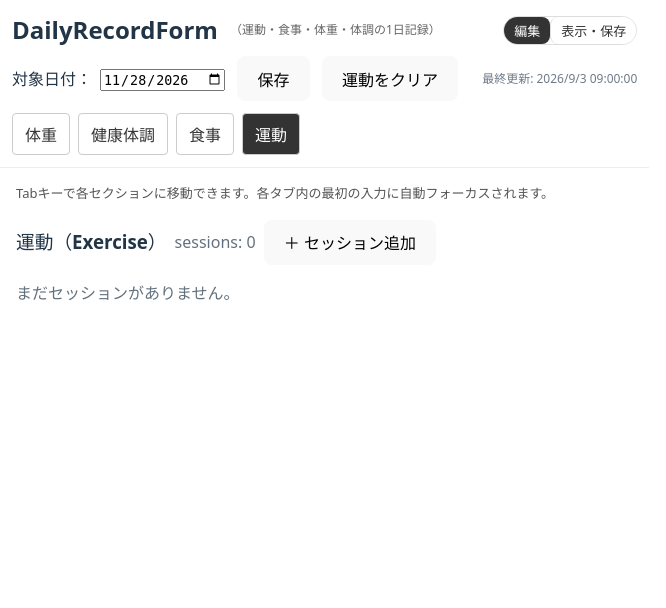
DailyRecordForm cloud persistence routing › refreshes cloud history when the save/load tab is opened
Click the button "表示・保存". click: (593, 30)
box: [550,16,636,44]
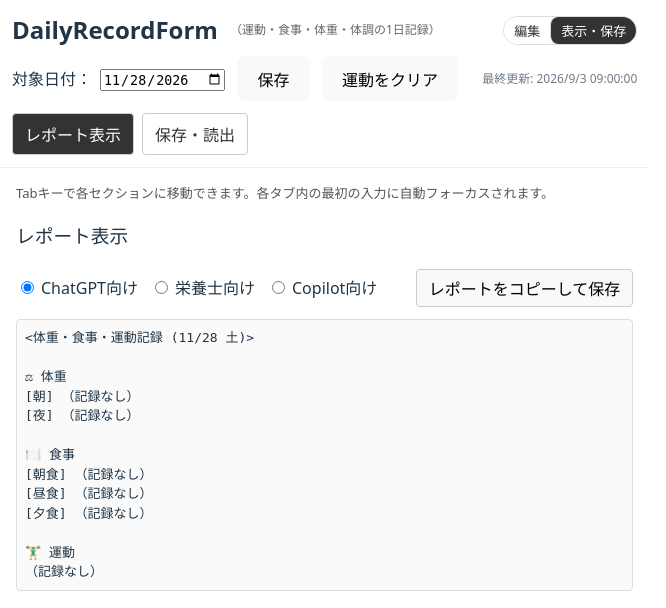
Click the tab "保存・読出". click: (195, 134)
box: [142,113,248,155]
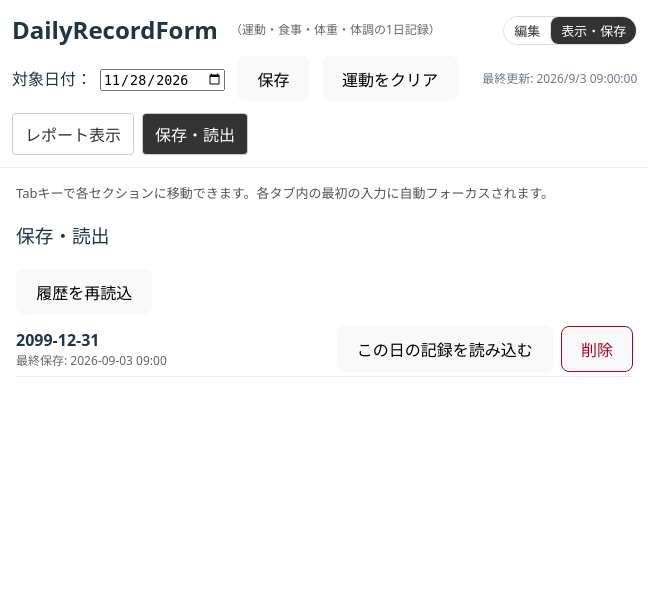
Result: the text "2099-12-31" is shown at [16,329,100,351]
